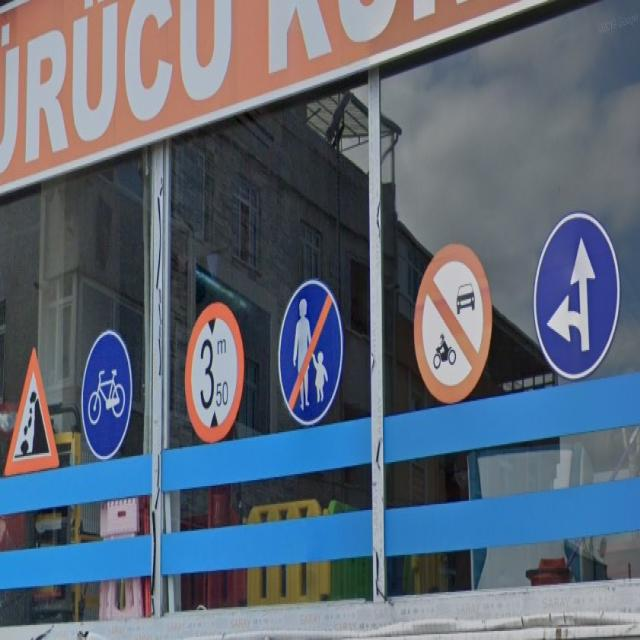ilerisol: (533, 212, 620, 378)
